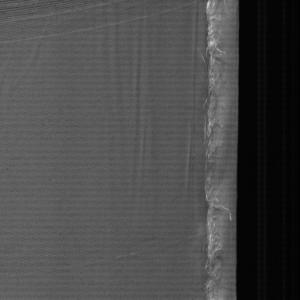Damage: (199, 1, 246, 300)
Wrinkle: (91, 1, 165, 214)
